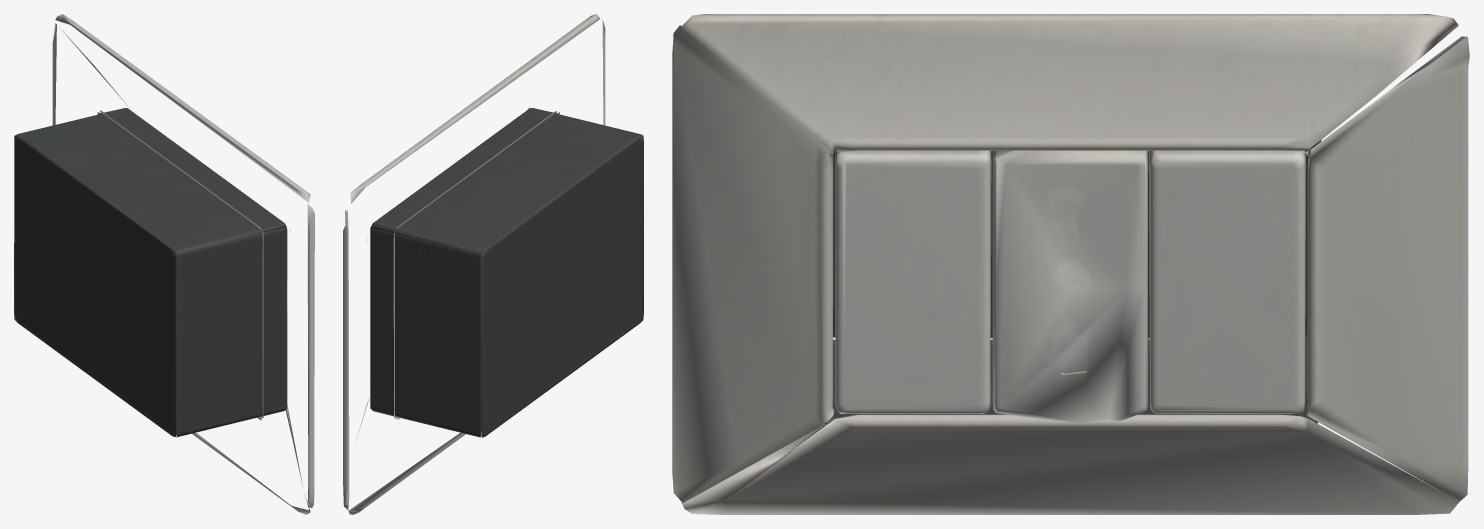
File: fixture_switch_a01.glb
The picture shows the model from 3 angles, left to right: view 1: azimuth 30°, elevation 25°; view 2: azimuth 150°, elevation 25°; view 3: azimuth 270°, elevation 25°; orthographic projection. The views are drawn at different scales.
Parts seen in each view (by area): view 1: sm_fixture_switch_a01_01; view 2: sm_fixture_switch_a01_01; view 3: sm_fixture_switch_a01_01.
Part boxes in pixels (x1=…): sm_fixture_switch_a01_01: x1=14, y1=14, x2=314, y2=514; sm_fixture_switch_a01_01: x1=343, y1=14, x2=643, y2=514; sm_fixture_switch_a01_01: x1=672, y1=14, x2=1469, y2=514.
Size of the model in its own units: 0.0319 by 0.0826 by 0.1198.
Materials: 1 (1 with a texture image).
